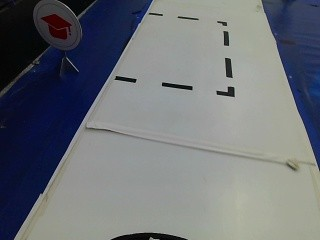school: (32, 3, 84, 55)
